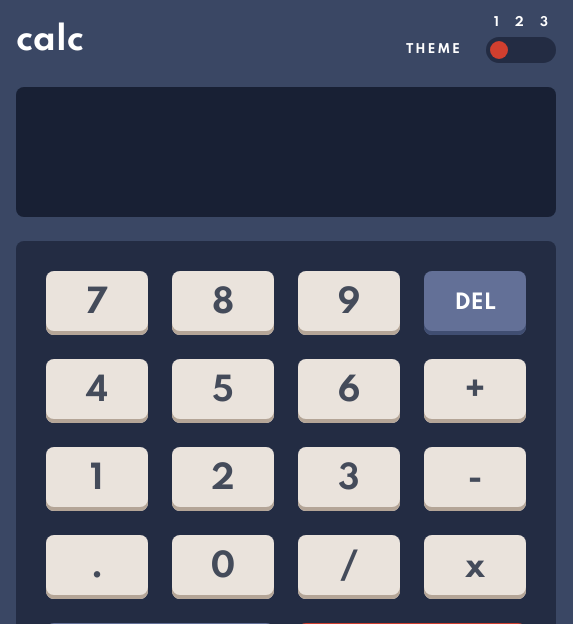
Scenario: App › allows deleting from the display per character
This screenshot has width=573, height=624.
Click the button "1": (97, 479) [46, 447, 148, 511]
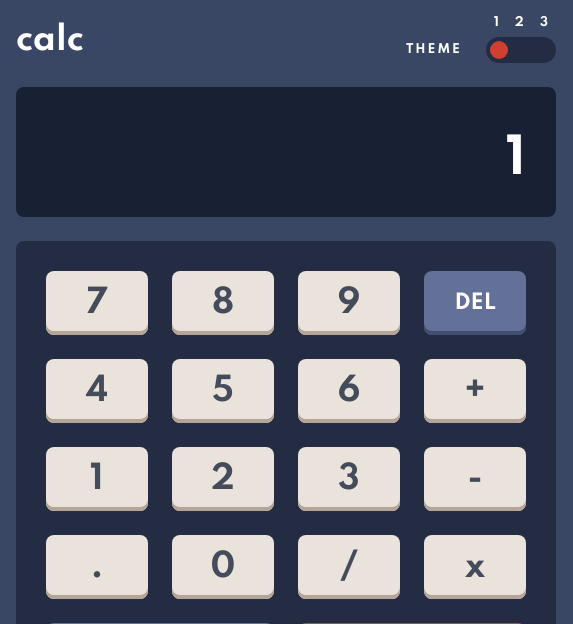
Click the button "2": (223, 479) [172, 447, 274, 511]
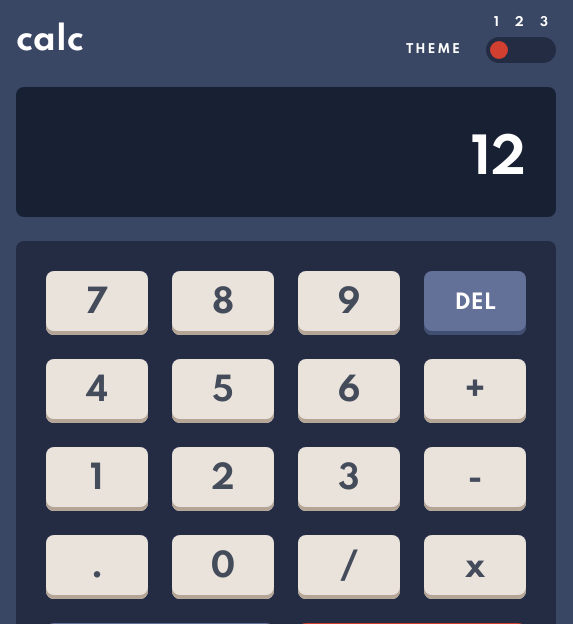
Click the button "3": (349, 479) [298, 447, 400, 511]
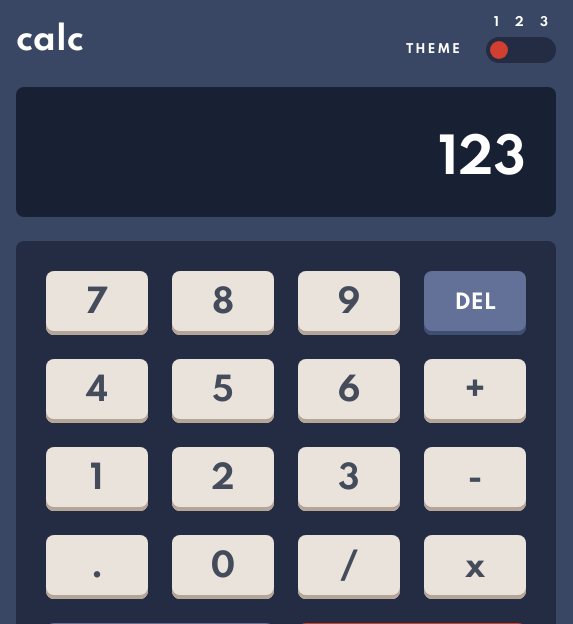
expect the message reads "123": met, box [439, 133, 526, 186]
Click the button "del": (475, 303) [424, 271, 526, 335]
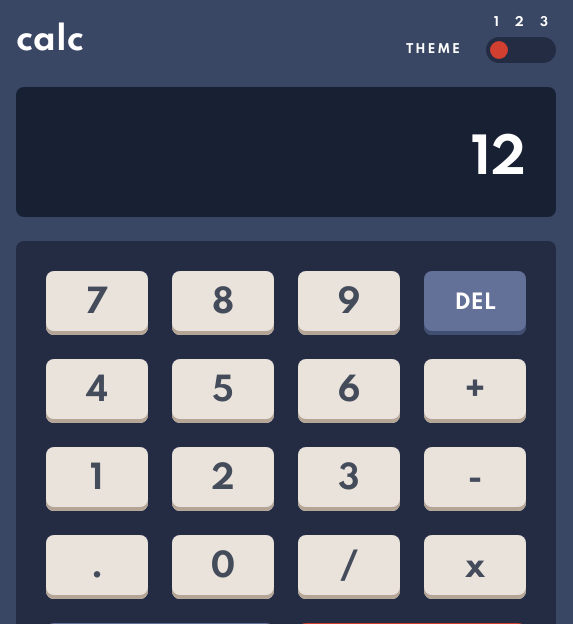
expect the message reads "12": met, box [471, 133, 526, 186]
